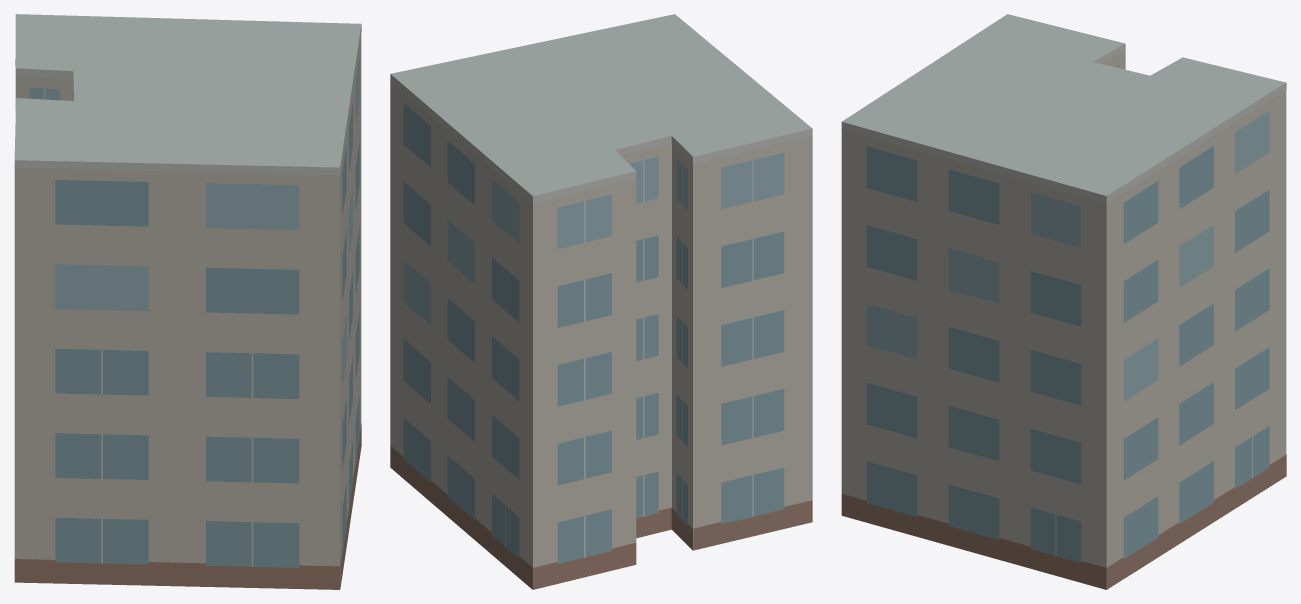
The model's file is survey-upis-32478739.glb.
3 views of the same model, side by side, from view 1: azimuth 30°, elevation 25°; view 2: azimuth 150°, elevation 25°; view 3: azimuth 270°, elevation 25° (orthographic). The views are drawn at different scales.
Parts seen in each view (by area): view 1: survey-upis-32478739.tmp; view 2: survey-upis-32478739.tmp; view 3: survey-upis-32478739.tmp.
Boxes of the visible parts, left/top/right/bottom form: survey-upis-32478739.tmp: left=14, top=14, right=361, bottom=589; survey-upis-32478739.tmp: left=390, top=14, right=812, bottom=589; survey-upis-32478739.tmp: left=841, top=14, right=1286, bottom=589.
Bounding box in the file's own units: 13.24 × 13.35 × 13.67.
